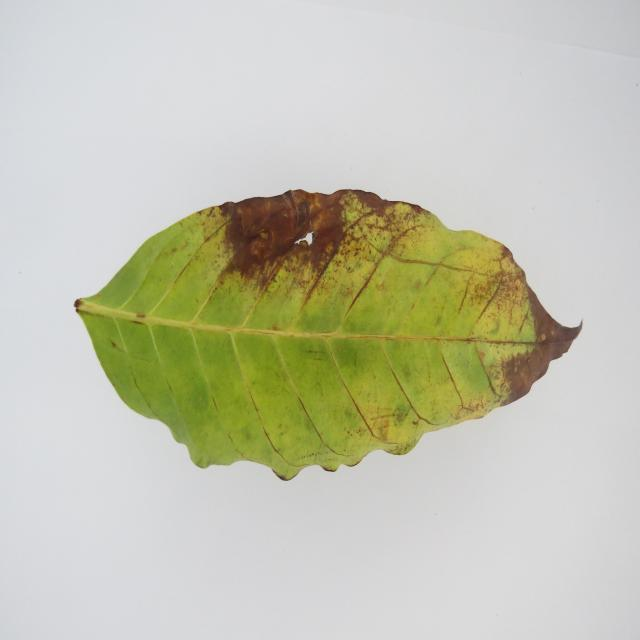DeficienciaNutricional-Potasio: (75, 190, 581, 480)
